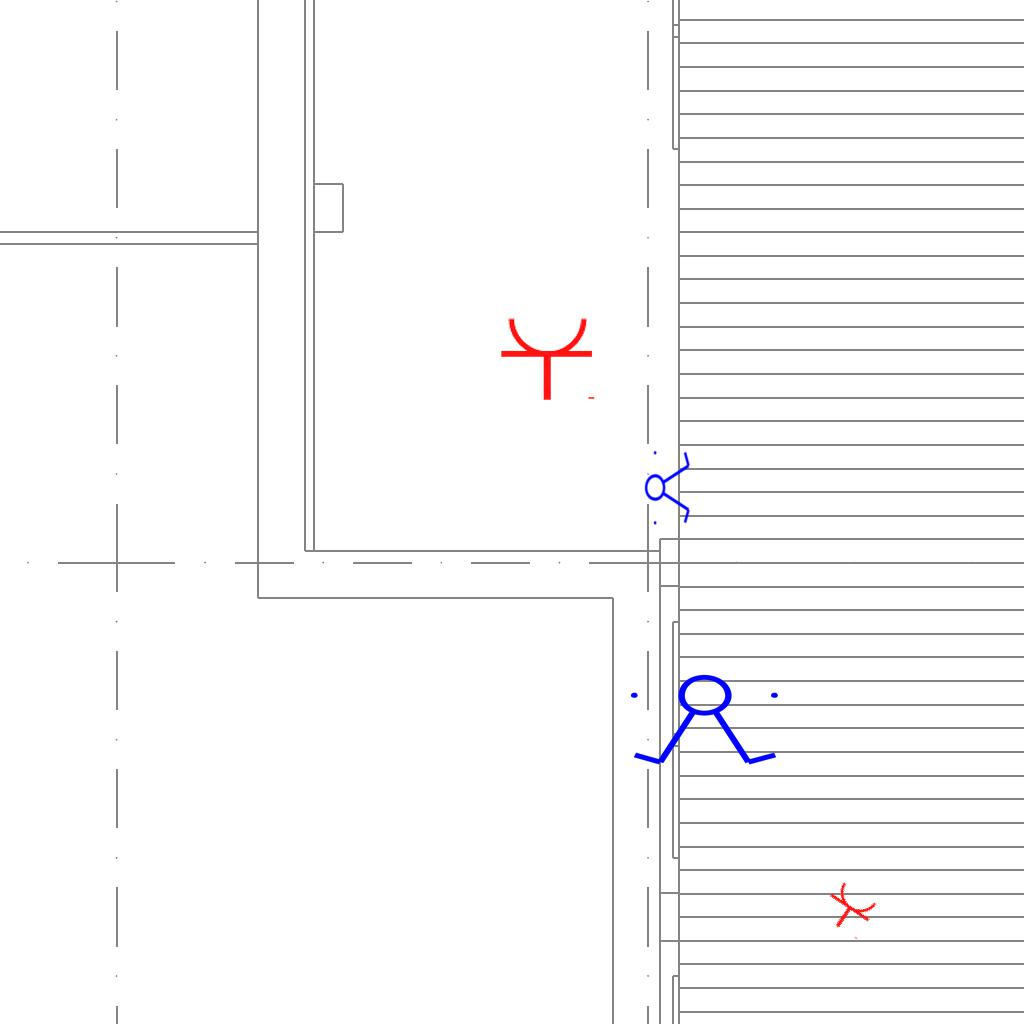Schukosteckdose_einfach: (499, 315, 599, 402), (816, 878, 883, 942)
Serienschalter: (622, 673, 790, 769), (644, 445, 692, 529)
